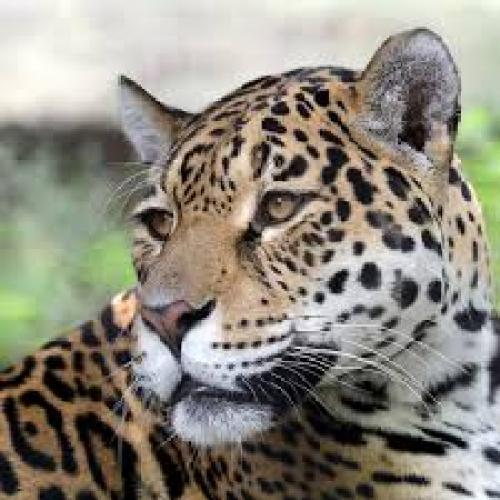jaguar_not-endangered: (0, 27, 490, 484)
